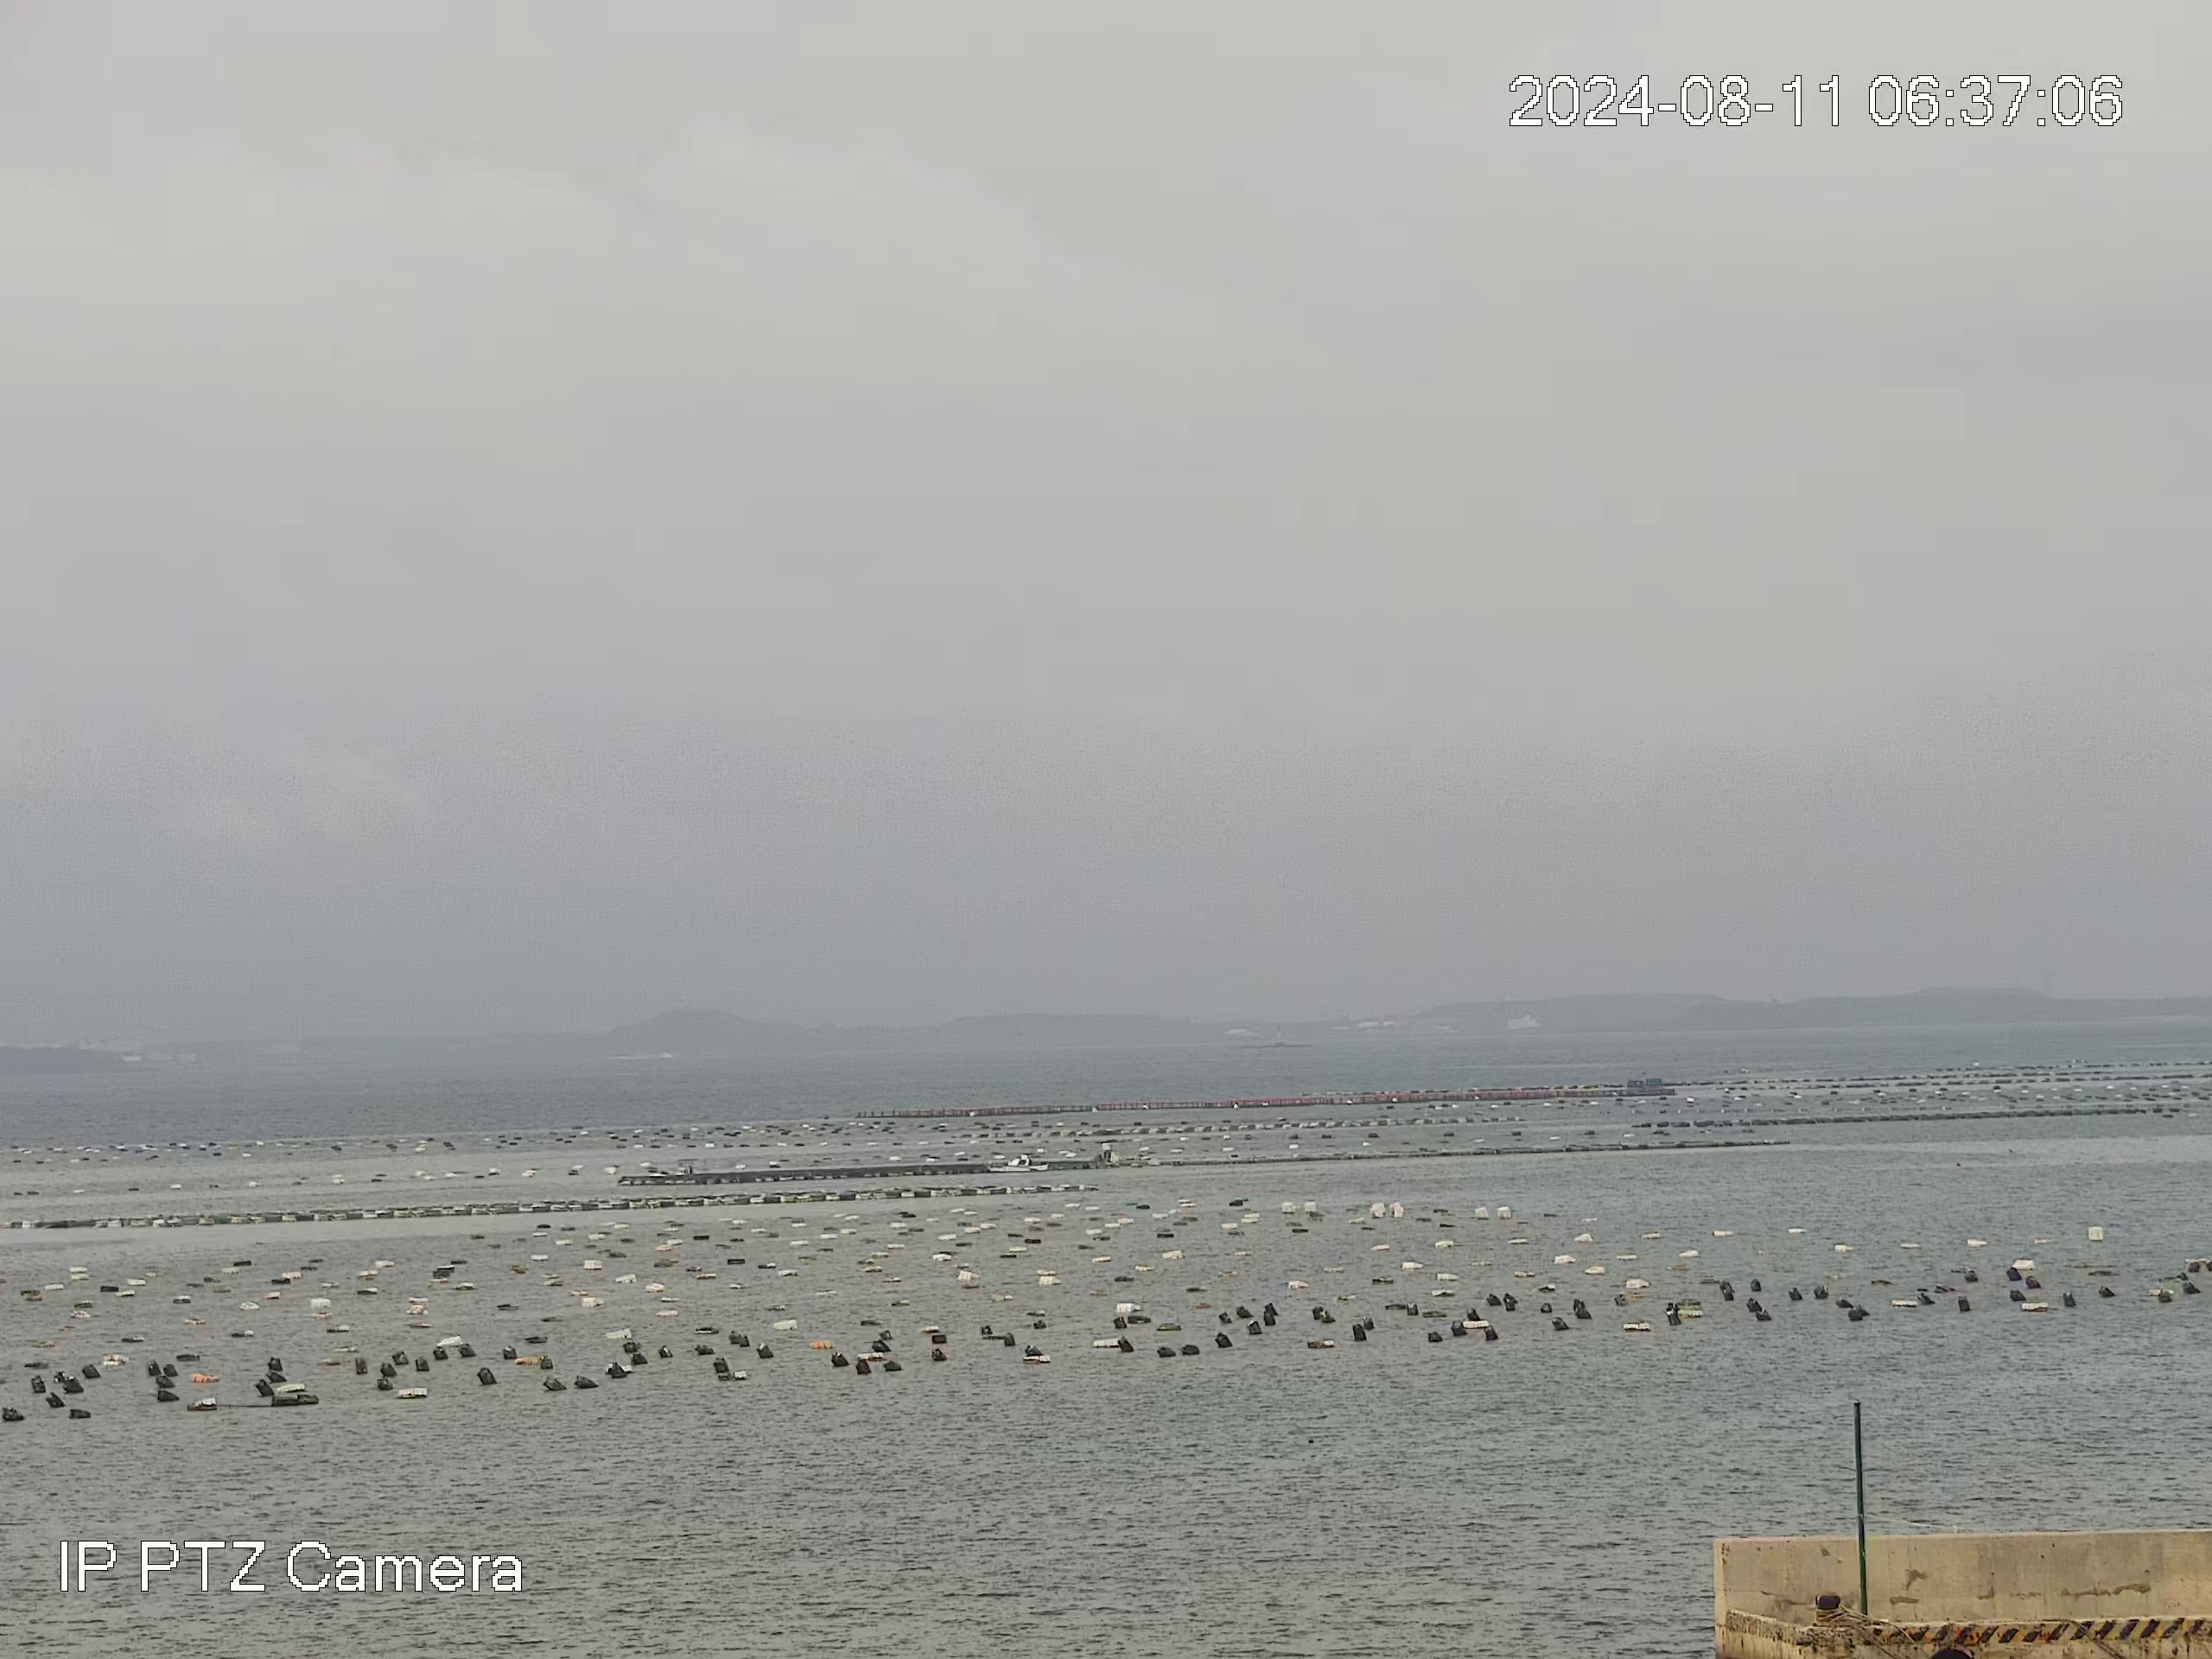boat: (986, 1152, 1050, 1173)
